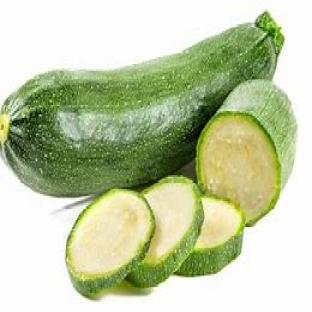Zucchini: (0, 13, 283, 195), (197, 80, 296, 225), (66, 189, 154, 296), (128, 177, 203, 287), (177, 196, 244, 275)
